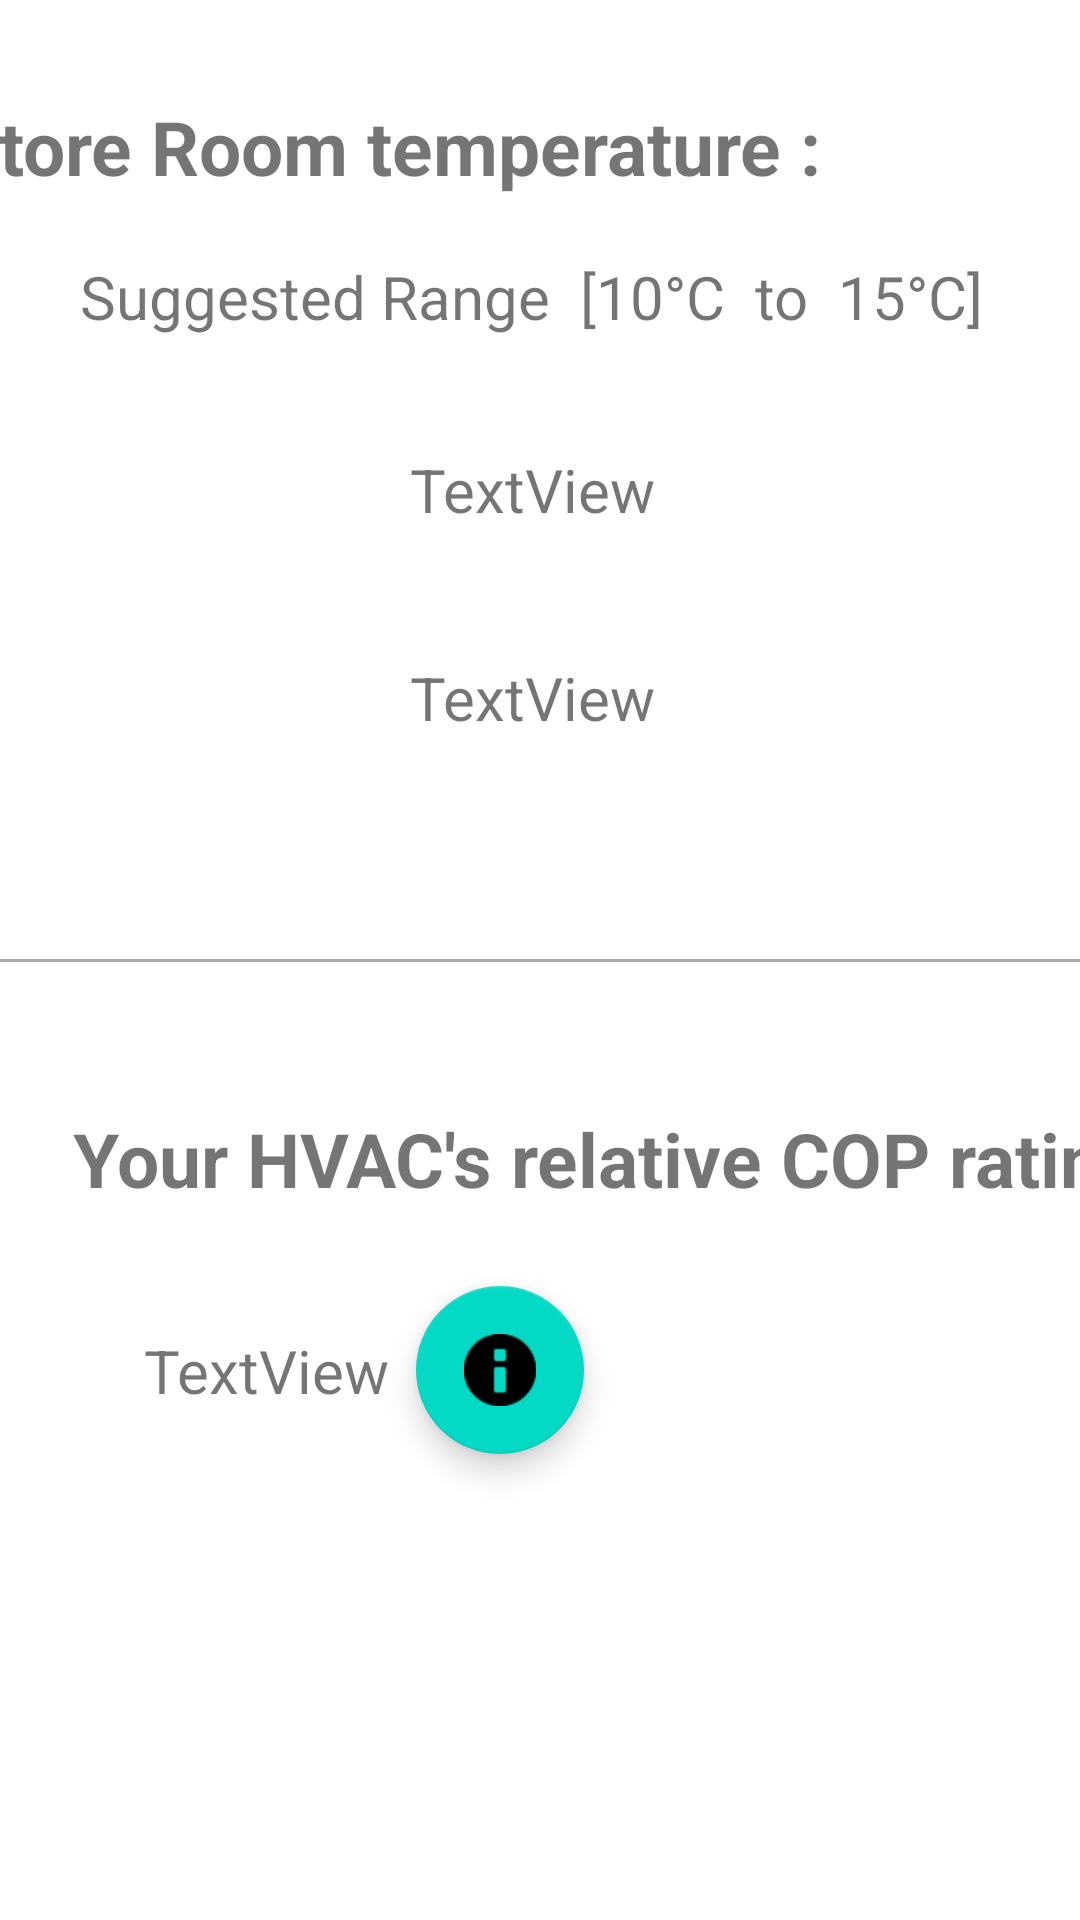

Named icons in this screenshot (1080×1920) and their bounding boxes, (x1=x1, y1=y1, x2=x2, y2=y2):
info: (x1=416, y1=1286, x2=584, y2=1454)
